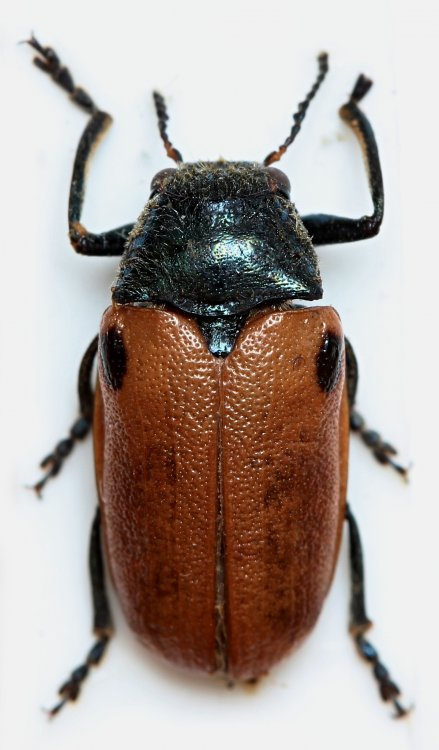Labidostomis_asiatica: (2, 21, 424, 726)
